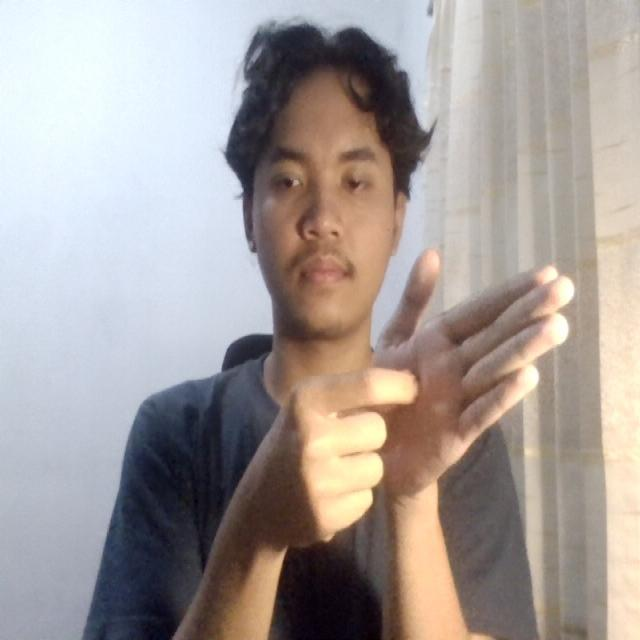L: (262, 244, 590, 557)
